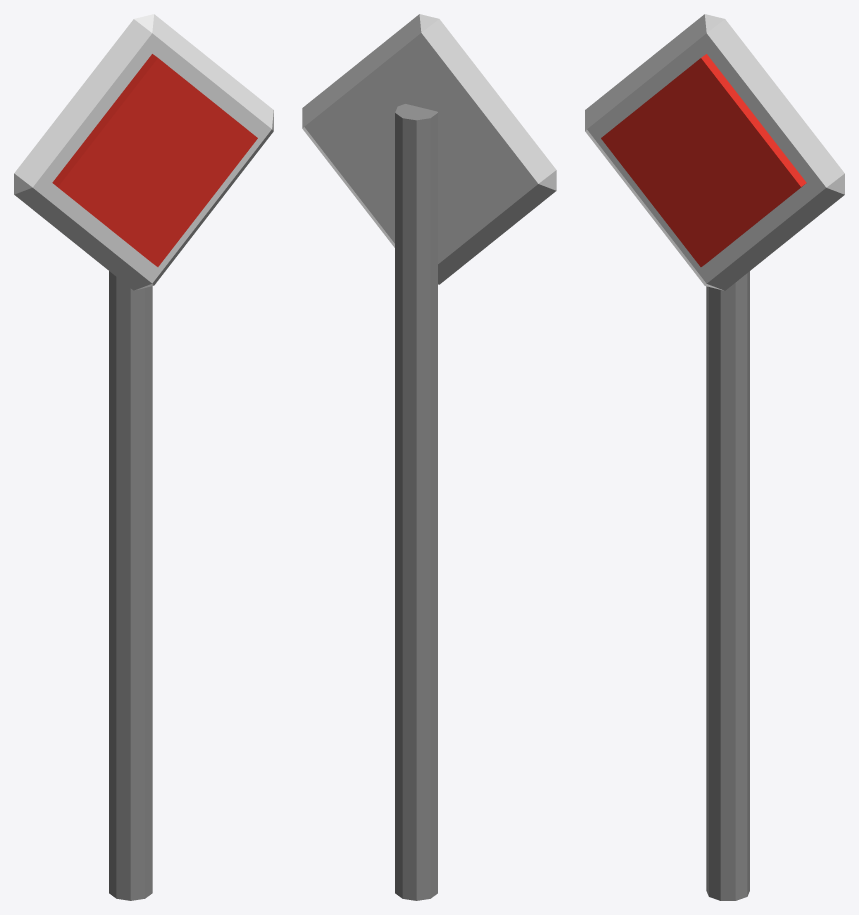
File: quaternius-public-transport-trafficsign-3.glb
3 renders of one model, left to right at view 1: azimuth 30°, elevation 25°; view 2: azimuth 150°, elevation 25°; view 3: azimuth 330°, elevation 25°, orthographic. The views are drawn at different scales.
Parts seen in each view (by area): view 1: TrafficSign; view 2: TrafficSign; view 3: TrafficSign.
Part boxes in pixels (box(x1,y1,x2,y2)): TrafficSign: box(14, 14, 273, 900); TrafficSign: box(302, 14, 556, 900); TrafficSign: box(585, 14, 844, 900).
Bounding box in the file's own units: 0.4369 × 1.42 × 0.1113.
